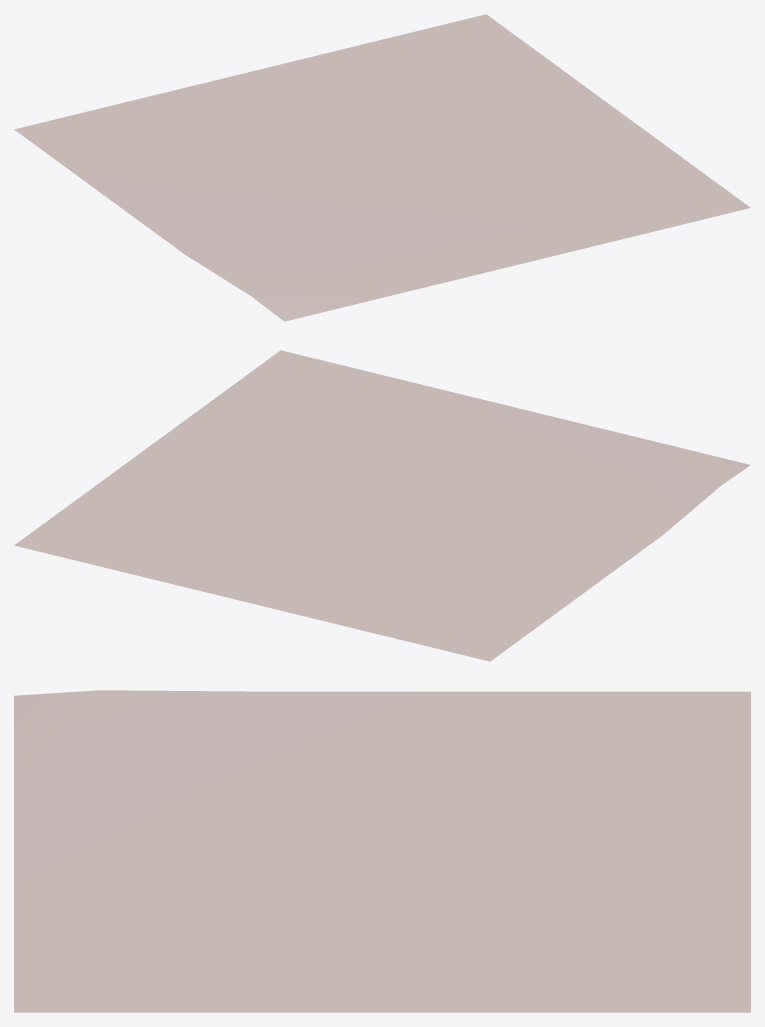
File: carpet_008.glb
3 views of the same model, one above another, from view 1: azimuth 30°, elevation 25°; view 2: azimuth 150°, elevation 25°; view 3: azimuth 270°, elevation 25° (orthographic). The views are drawn at different scales.
Parts seen in each view (by area): view 1: carpet_008; view 2: carpet_008; view 3: carpet_008.
Part boxes in pixels (x1,y1,x2,y2): carpet_008: (14,14,750,321); carpet_008: (14,350,750,661); carpet_008: (14,690,750,1012).
Size of the model in its own units: 2.46 by 0.0149 by 2.39.
Materials: 1 (1 with a texture image).
